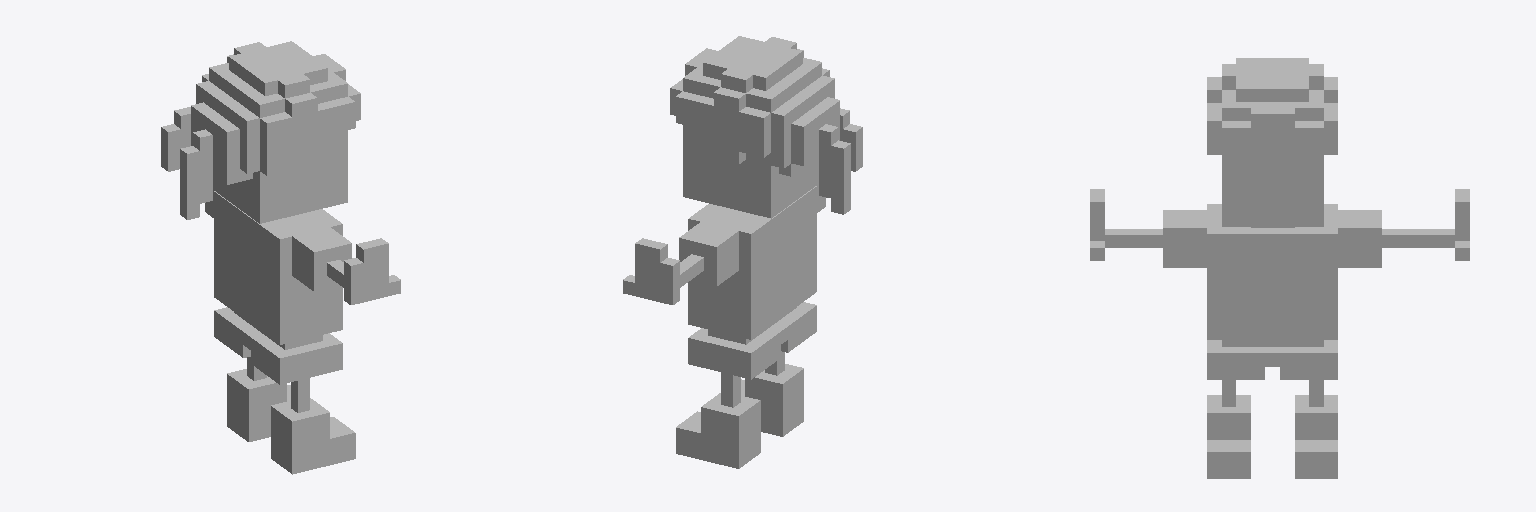
The model's file is girl 2.obj.
3 views of the same model, side by side, from view 1: azimuth 30°, elevation 25°; view 2: azimuth 150°, elevation 25°; view 3: azimuth 270°, elevation 25° (orthographic).
Parts seen in each view (by area): view 1: girl 2; view 2: girl 2; view 3: girl 2.
Boxes of the visible parts, box(x1,y1,x2,y2) form: girl 2: box(161, 41, 400, 474); girl 2: box(623, 36, 862, 468); girl 2: box(1090, 58, 1469, 478).
Bounding box in the file's own units: 12 × 29 × 26.